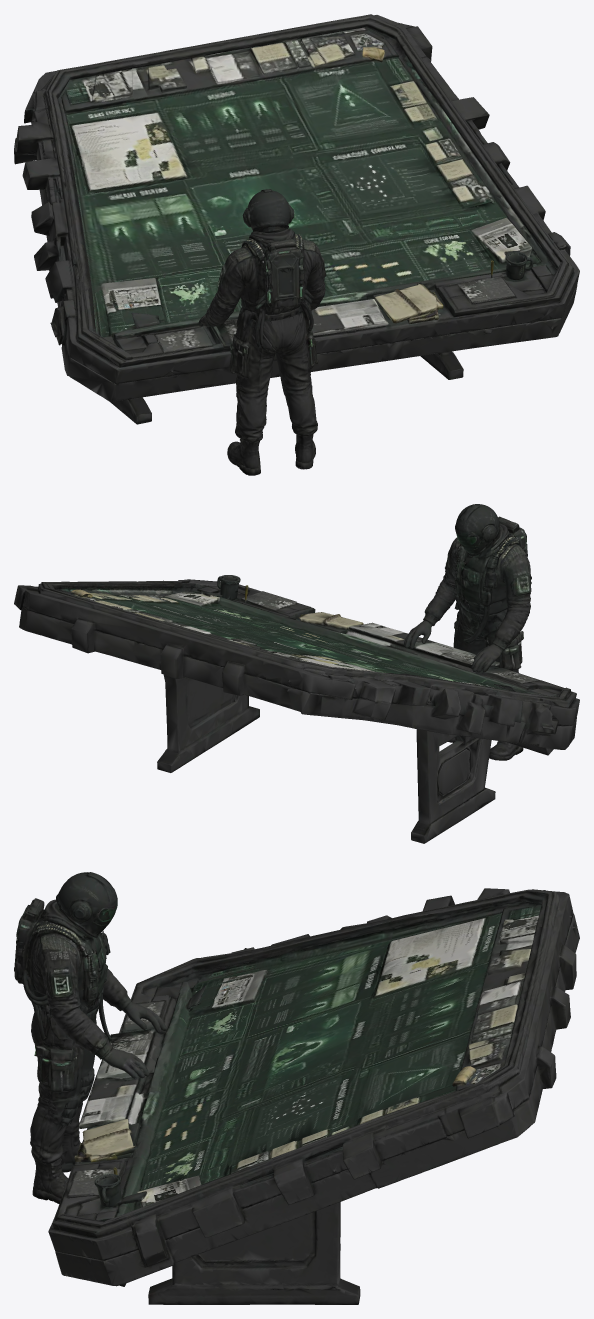
Rendered from sci-fi_control_table_web.glb.
3 views of the same model, one above another, from view 1: azimuth 30°, elevation 25°; view 2: azimuth 150°, elevation 25°; view 3: azimuth 270°, elevation 25° (orthographic). The views are drawn at different scales.
Visible parts, largest first — view 1: tripo_node_d211b815-566f-4ac9-a4e2-7d410179a6f9; view 2: tripo_node_d211b815-566f-4ac9-a4e2-7d410179a6f9; view 3: tripo_node_d211b815-566f-4ac9-a4e2-7d410179a6f9.
Part boxes in pixels (left/top/right/bottom): tripo_node_d211b815-566f-4ac9-a4e2-7d410179a6f9: left=14, top=14, right=579, bottom=475; tripo_node_d211b815-566f-4ac9-a4e2-7d410179a6f9: left=14, top=504, right=579, bottom=843; tripo_node_d211b815-566f-4ac9-a4e2-7d410179a6f9: left=14, top=872, right=579, bottom=1304.
Size of the model in its own units: 0.9798 by 0.5172 by 0.8478.
Materials: 1 (1 with a texture image).
